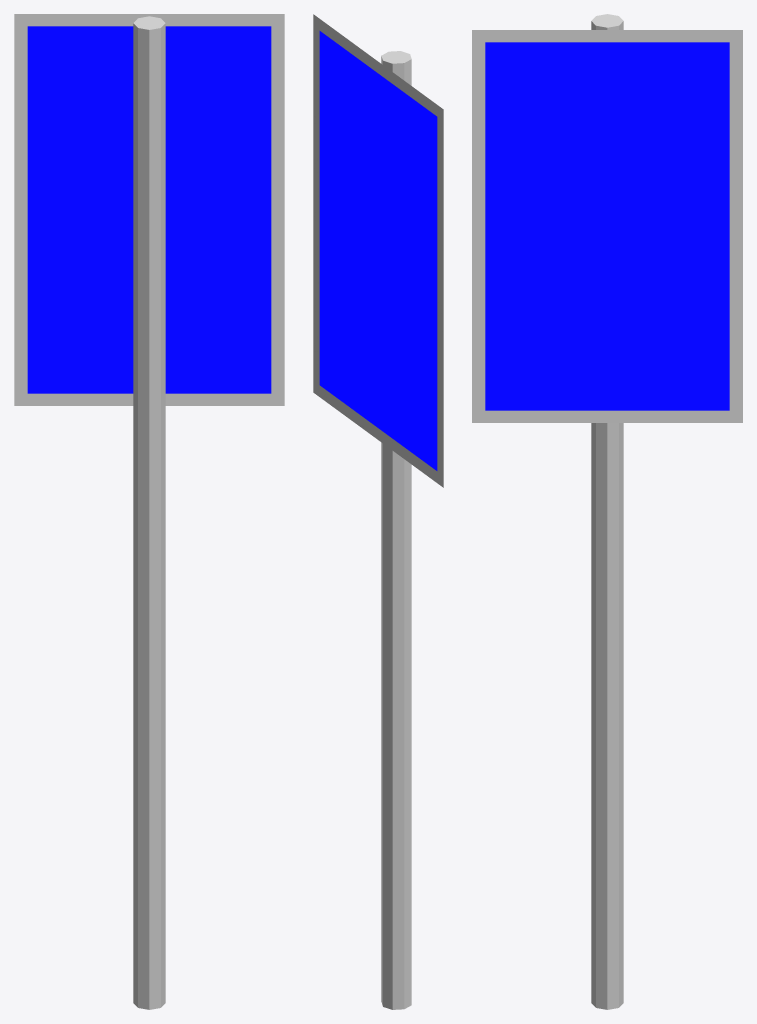
File: flag_blue.glb
3 renders of one model, left to right at view 1: azimuth 90°, elevation 25°; view 2: azimuth 210°, elevation 25°; view 3: azimuth 270°, elevation 25°, orthographic. The views are drawn at different scales.
Visible parts, largest first — view 1: cloth, pole; view 2: cloth, pole; view 3: cloth, pole.
Boxes of the visible parts, <box> form: cloth: <box>14,14,284,405</box>; pole: <box>133,16,165,1009</box>; cloth: <box>313,14,443,487</box>; pole: <box>381,51,411,1009</box>; cloth: <box>472,30,742,422</box>; pole: <box>591,14,623,1009</box>.
Size of the model in its own units: 0.07 by 2 by 0.5.
